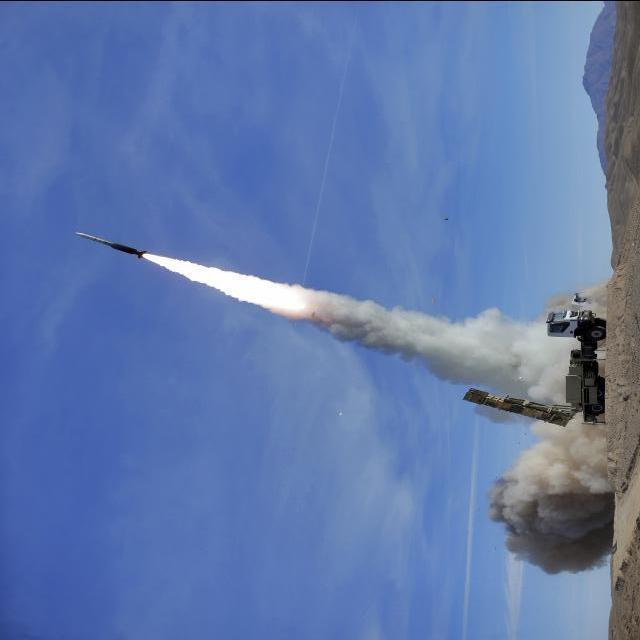missile: (72, 220, 144, 267)
